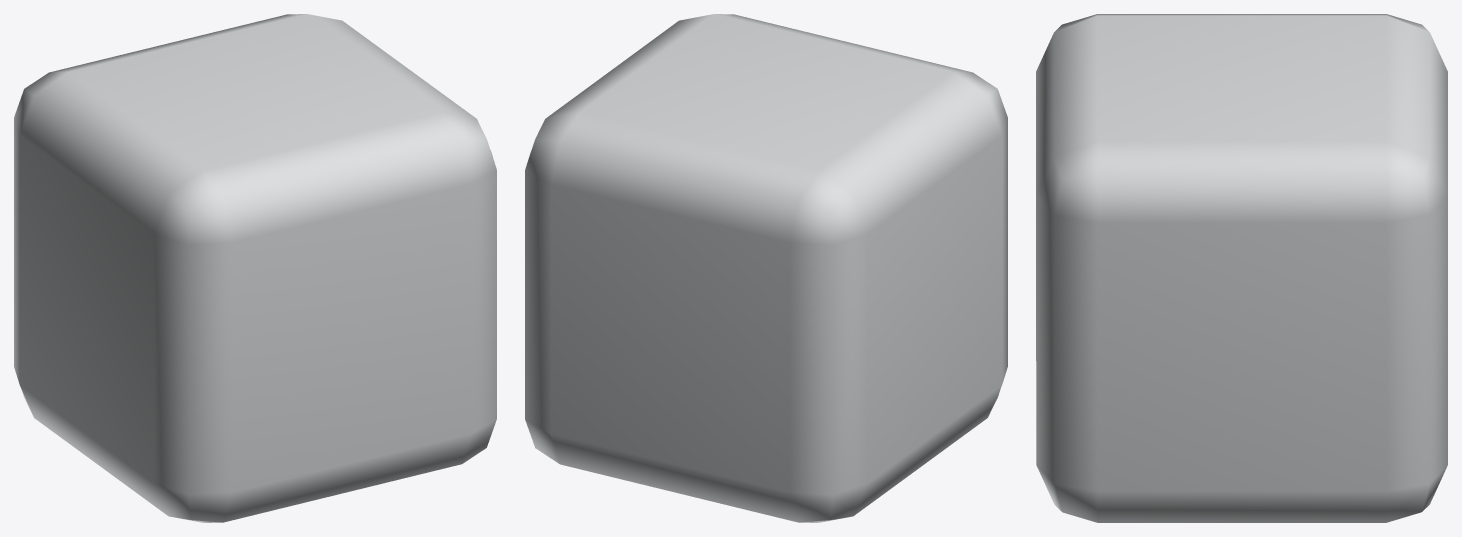
Rendered from SM_Cloud_01_C.fbx.
3 views of the same model, side by side, from view 1: azimuth 30°, elevation 25°; view 2: azimuth 150°, elevation 25°; view 3: azimuth 270°, elevation 25° (orthographic). The views are drawn at different scales.
Visible parts, largest first — view 1: pCube788; view 2: pCube788; view 3: pCube788.
Part boxes in pixels (x1=…): pCube788: x1=14, y1=14, x2=496, y2=522; pCube788: x1=525, y1=14, x2=1007, y2=522; pCube788: x1=1036, y1=14, x2=1447, y2=522.
Size of the model in its own units: 221 by 221 by 217.
